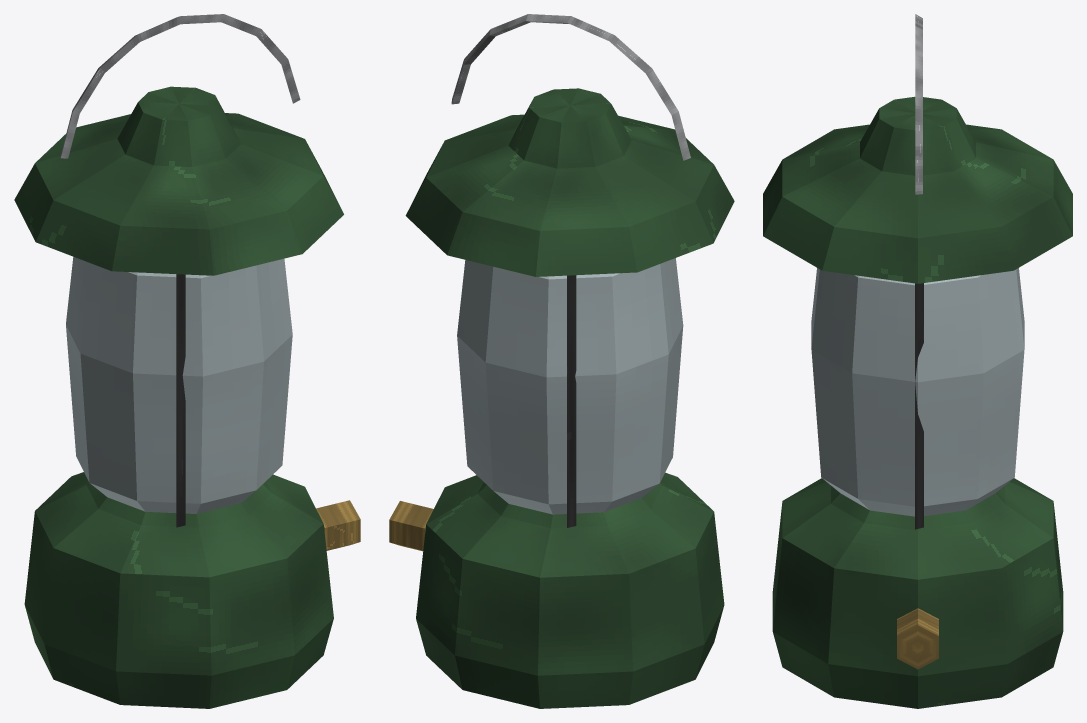
File: CAMP_Lantern_01.glb
3 renders of one model, left to right at view 1: azimuth 30°, elevation 25°; view 2: azimuth 150°, elevation 25°; view 3: azimuth 270°, elevation 25°, orthographic.
Parts seen in each view (by area): view 1: CAMP_Lantern_01; view 2: CAMP_Lantern_01; view 3: CAMP_Lantern_01.
Boxes of the visible parts, left/top/right/bottom form: CAMP_Lantern_01: left=14, top=14, right=360, bottom=708; CAMP_Lantern_01: left=389, top=14, right=734, bottom=708; CAMP_Lantern_01: left=763, top=14, right=1072, bottom=708.
Size of the model in its own units: 0.175 by 0.3372 by 0.1522.
6 materials, 6 textured.
